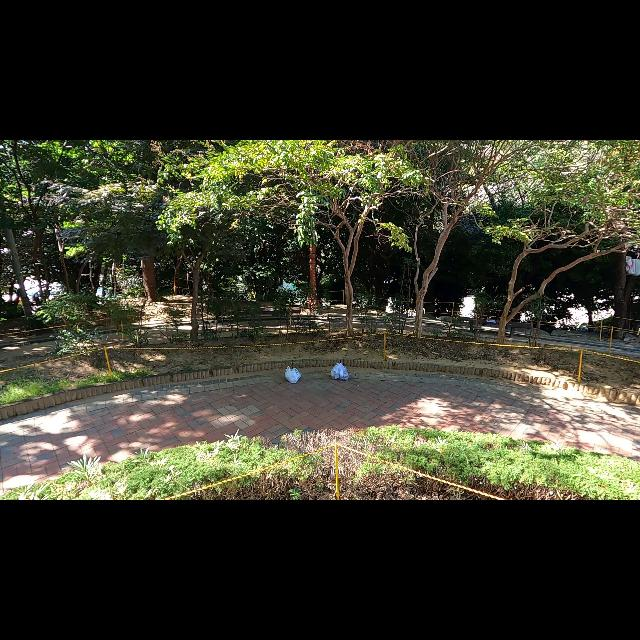trash: (329, 361, 351, 382), (284, 364, 304, 386)
